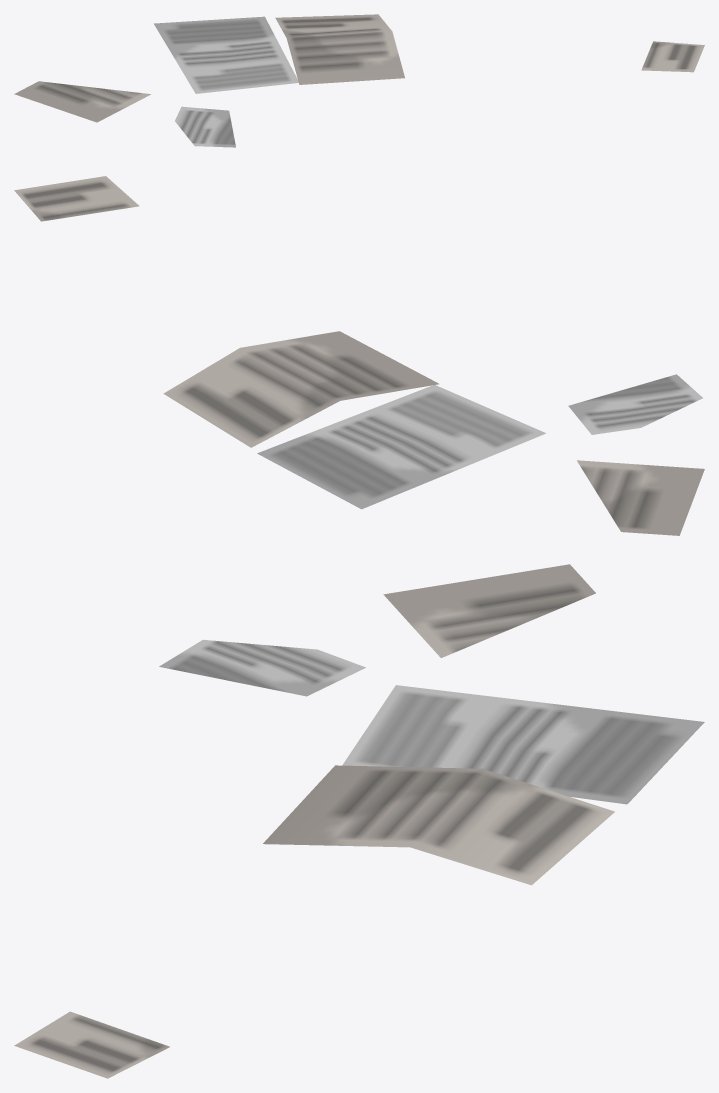
Rendered from SM_Prop_Papers_01.fbx.
3 views of the same model, one above another, from view 1: azimuth 30°, elevation 25°; view 2: azimuth 150°, elevation 25°; view 3: azimuth 270°, elevation 25° (orthographic). The views are drawn at different scales.
Parts seen in each view (by area): view 1: SM_Prop_Papers_01; view 2: SM_Prop_Papers_01; view 3: SM_Prop_Papers_01.
Part boxes in pixels (x1=…): SM_Prop_Papers_01: x1=14, y1=14, x2=704, y2=147; SM_Prop_Papers_01: x1=14, y1=176, x2=704, y2=535; SM_Prop_Papers_01: x1=14, y1=564, x2=704, y2=1078.
Bounding box in the file's own units: 166 × 3.45 × 93.86.
